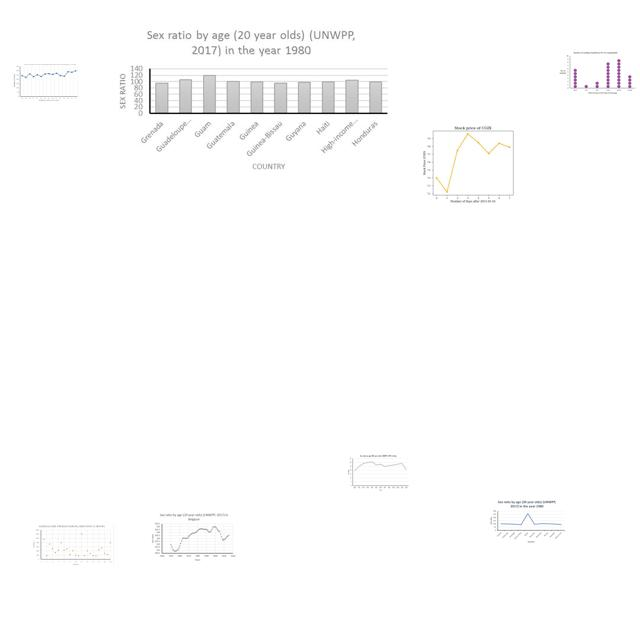Graph: (114, 23, 391, 180), (411, 121, 532, 204), (149, 511, 236, 563), (557, 50, 637, 96), (488, 499, 566, 544), (32, 524, 114, 566), (12, 62, 79, 103), (347, 454, 410, 492)
